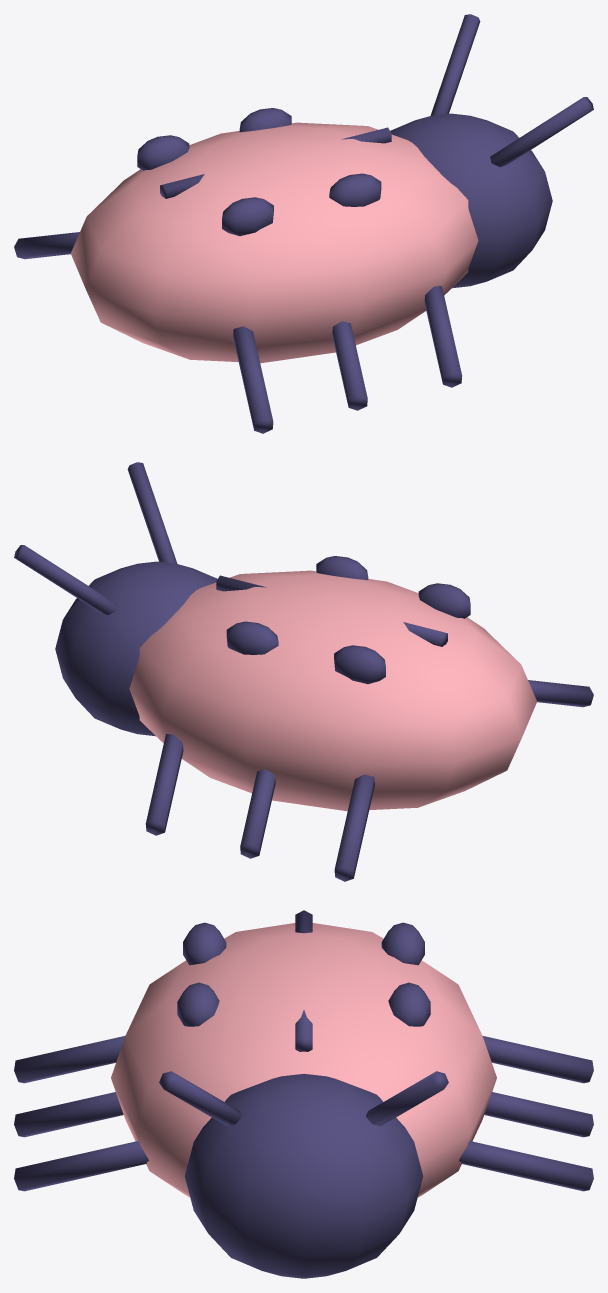
Rendered from coral_ladybug.glb.
The picture shows the model from 3 angles, top to bottom: view 1: azimuth 30°, elevation 25°; view 2: azimuth 150°, elevation 25°; view 3: azimuth 270°, elevation 25°; orthographic projection. The views are drawn at different scales.
Parts seen in each view (by area): view 1: body.005, head.001, leg_0_-1, leg_2_-1, antenna_-1, leg_1_-1, antenna_1, spot.002, spot.003, spot, leg_0_1, wing_seam (+1 smaller); view 2: body.005, head.001, leg_0_1, leg_2_1, antenna_1, leg_1_1, antenna_-1, spot, spot.001, spot.002, leg_0_-1, wing_seam (+1 smaller); view 3: body.005, head.001, leg_2_-1, leg_2_1, leg_0_-1, leg_0_1, leg_1_-1, leg_1_1, antenna_-1, antenna_1, spot.001, spot.003 (+3 smaller).
Part boxes in pixels (left/top/right/bottom): body.005: left=71, top=122, right=478, bottom=363; head.001: left=390, top=113, right=552, bottom=288; leg_0_-1: left=233, top=326, right=273, bottom=433; leg_2_-1: left=424, top=286, right=462, bottom=387; antenna_-1: left=490, top=97, right=593, bottom=166; leg_1_-1: left=332, top=321, right=367, bottom=410; antenna_1: left=430, top=14, right=480, bottom=115; spot.002: left=222, top=197, right=273, bottom=236; spot.003: left=329, top=173, right=381, bottom=206; spot: left=137, top=135, right=189, bottom=170; leg_0_1: left=14, top=232, right=79, bottom=259; wing_seam: left=160, top=127, right=391, bottom=198; body.005: left=129, top=570, right=536, bottom=811; head.001: left=55, top=561, right=217, bottom=736; leg_0_1: left=334, top=774, right=374, bottom=881; leg_2_1: left=145, top=734, right=183, bottom=835; antenna_1: left=14, top=545, right=117, bottom=614; leg_1_1: left=240, top=769, right=275, bottom=858; antenna_-1: left=127, top=462, right=177, bottom=563; spot: left=334, top=645, right=385, bottom=684; spot.001: left=226, top=621, right=278, bottom=654; spot.002: left=418, top=583, right=470, bottom=618; leg_0_-1: left=528, top=680, right=593, bottom=707; wing_seam: left=216, top=575, right=447, bottom=646; body.005: left=111, top=923, right=496, bottom=1197; head.001: left=184, top=1074, right=423, bottom=1278; leg_2_-1: left=14, top=1141, right=148, bottom=1191; leg_2_1: left=459, top=1141, right=593, bottom=1191; leg_0_-1: left=14, top=1036, right=125, bottom=1083; leg_0_1: left=482, top=1036, right=593, bottom=1083; leg_1_-1: left=14, top=1092, right=123, bottom=1137; leg_1_1: left=484, top=1092, right=593, bottom=1137; antenna_-1: left=159, top=1071, right=241, bottom=1126; antenna_1: left=366, top=1071, right=448, bottom=1126; spot.001: left=388, top=982, right=430, bottom=1026; spot.003: left=177, top=982, right=219, bottom=1026.
Size of the model in its own units: 2.16 by 1.01 by 2.04.
